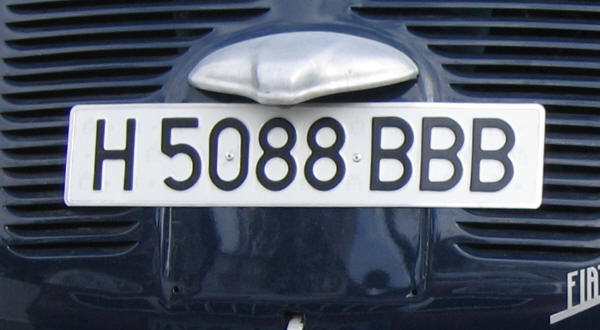license_plate: (64, 103, 545, 207)
